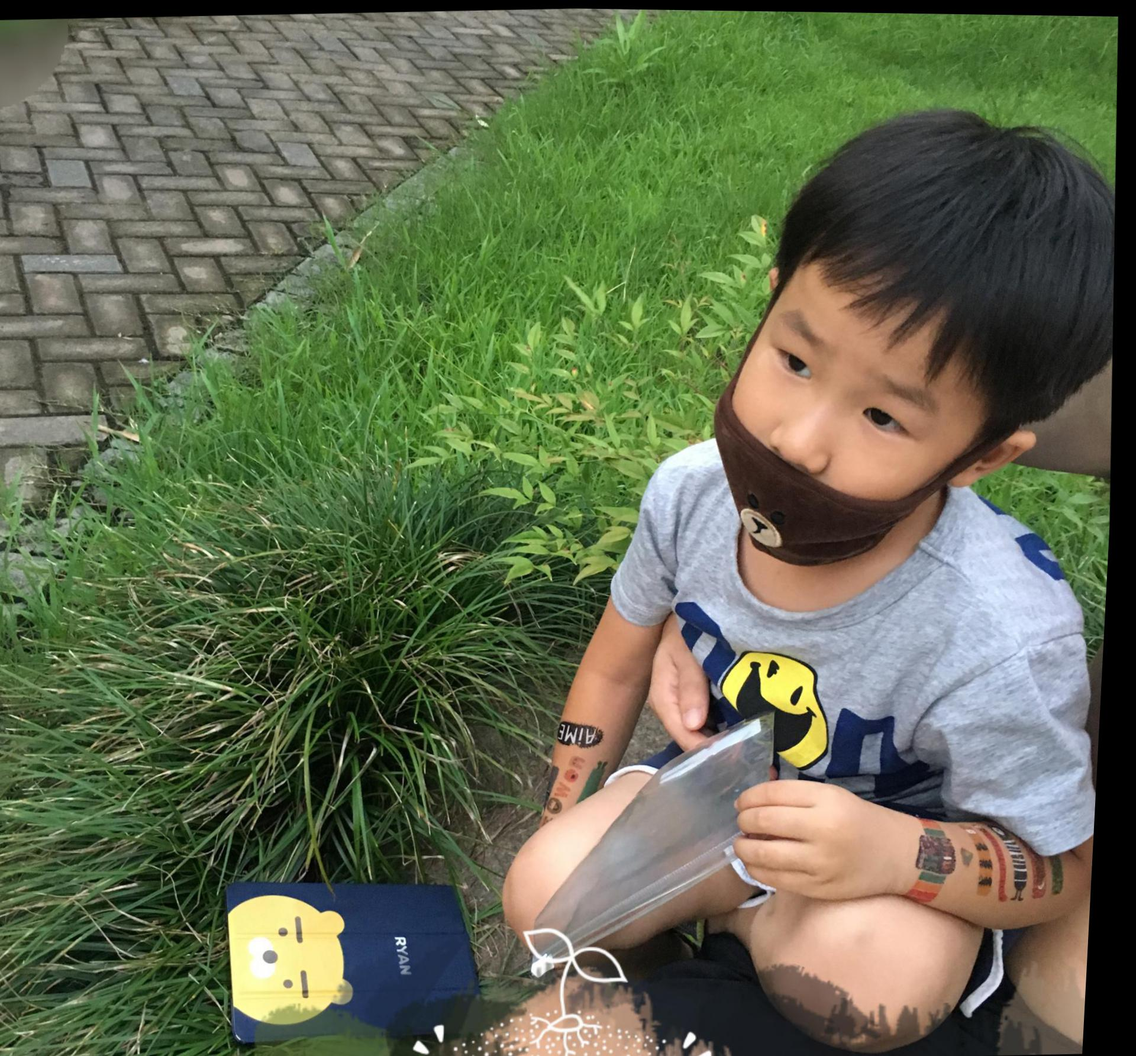WRONG: (714, 292, 962, 567)
